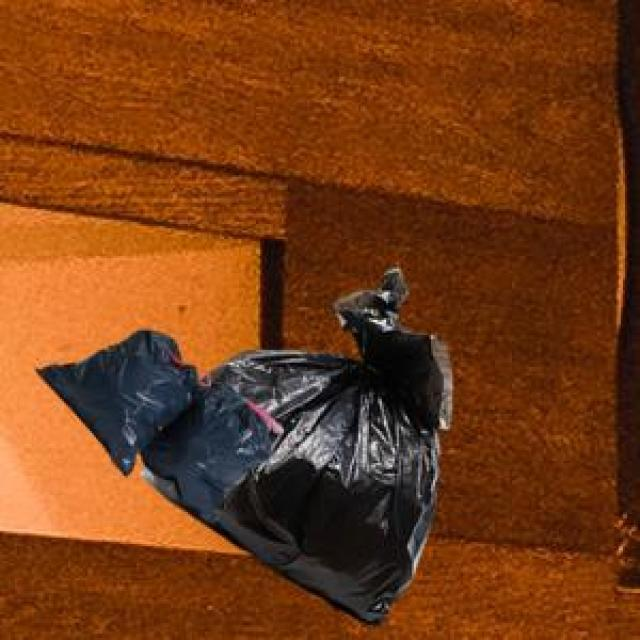Trashbag: (53, 328, 180, 458), (163, 389, 270, 519)
